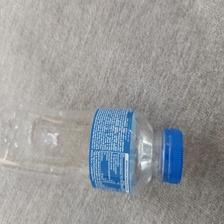BIODEGRADABLE: (2, 102, 195, 196)
